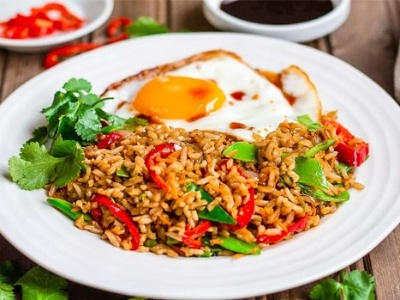nasigoreng: (58, 61, 349, 244)
